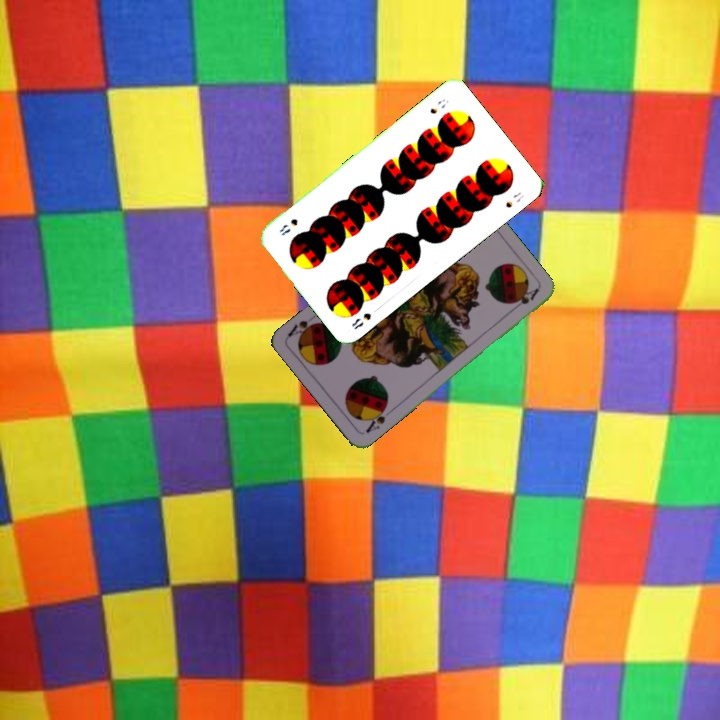S8: (347, 309, 374, 332), (426, 94, 451, 117)
SA: (361, 401, 394, 436)
